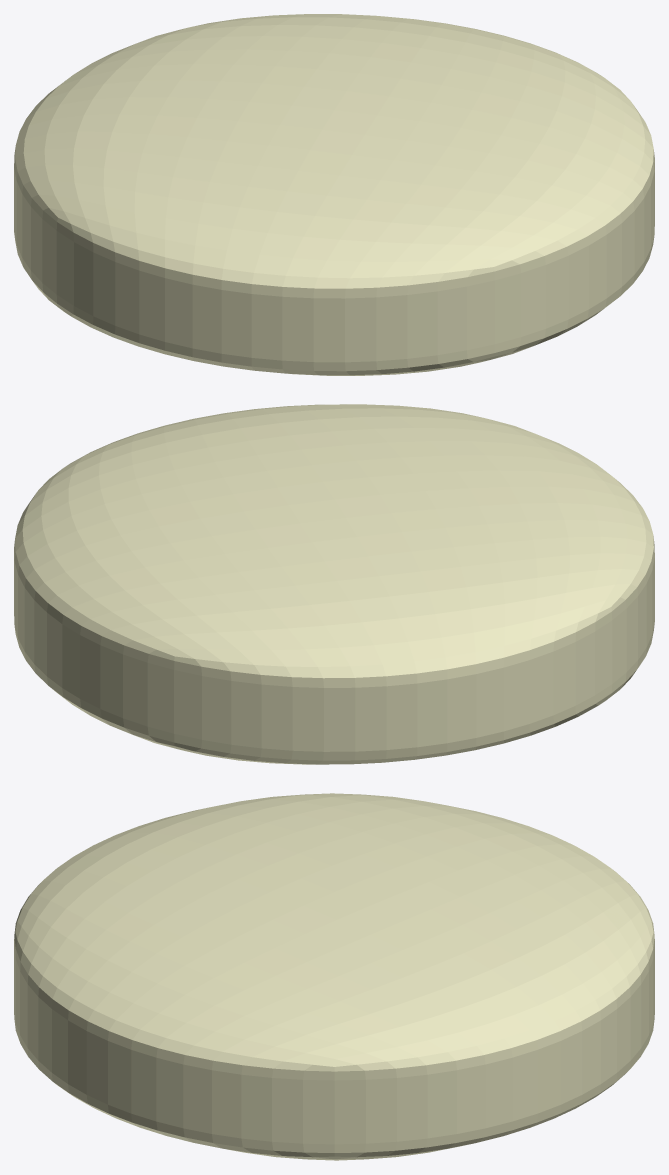
The model's file is PillTablet.fbx.
3 views of the same model, one above another, from view 1: azimuth 30°, elevation 25°; view 2: azimuth 150°, elevation 25°; view 3: azimuth 270°, elevation 25° (orthographic).
Parts seen in each view (by area): view 1: Cylinder; view 2: Cylinder; view 3: Cylinder.
Part boxes in pixels (left/top/right/bottom): Cylinder: left=14, top=14, right=654, bottom=375; Cylinder: left=14, top=404, right=654, bottom=764; Cylinder: left=14, top=793, right=654, bottom=1160.
Bounding box in the file's own units: 199 × 58.09 × 199.
